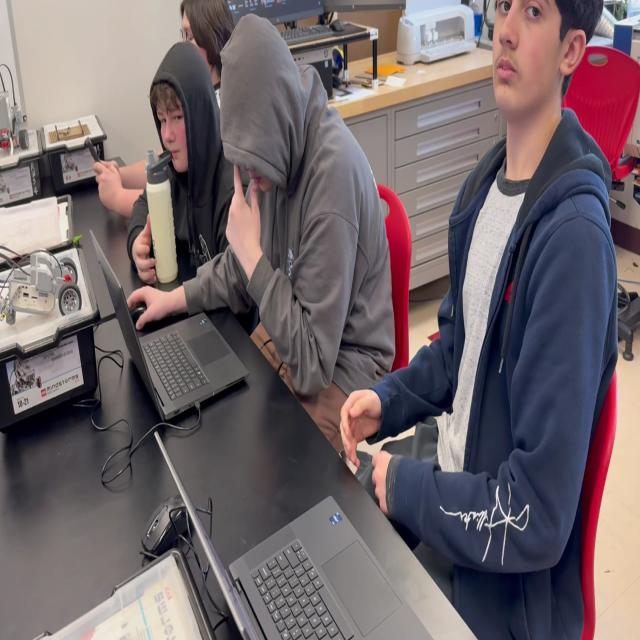pen: (86, 136, 109, 181)
